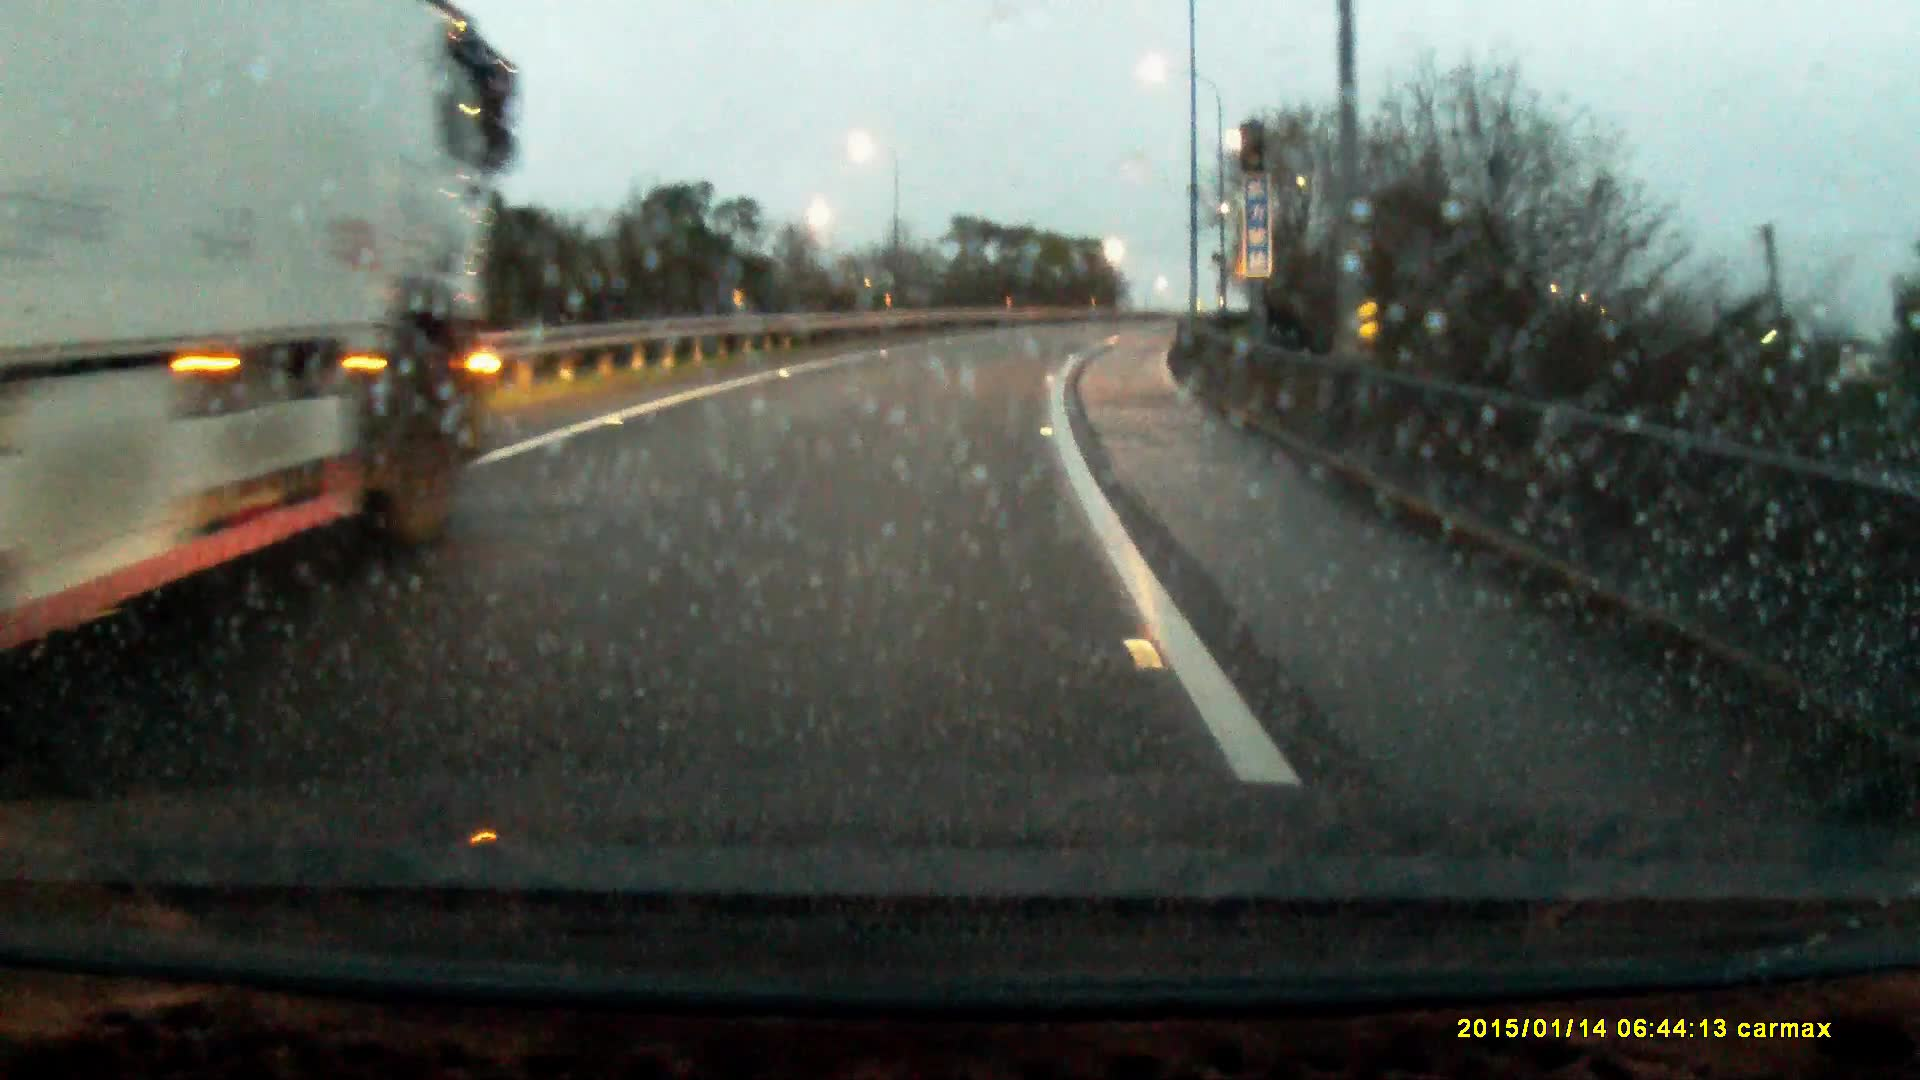vehicle: (1, 1, 522, 647)
